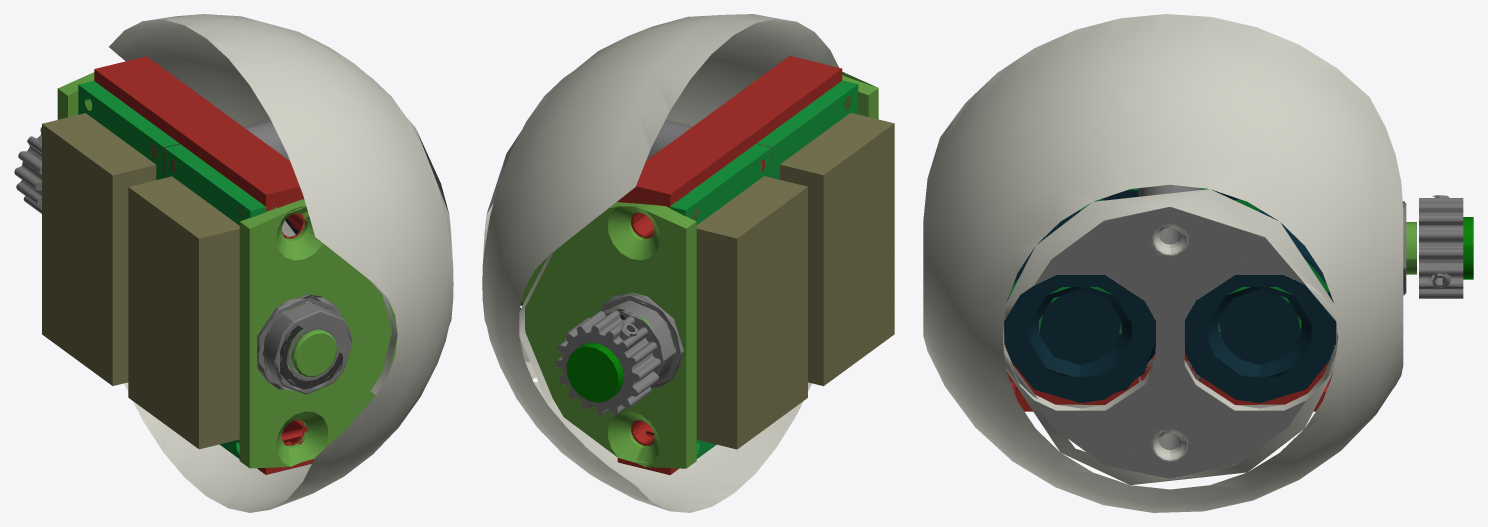
The model's file is eyel_2_joint.obj.
3 renders of one model, left to right at view 1: azimuth 30°, elevation 25°; view 2: azimuth 150°, elevation 25°; view 3: azimuth 270°, elevation 25°, orthographic. The views are drawn at different scales.
Size of the model in its own units: 0.0301 by 0.05 by 0.0524.
1 material, 1 textured.
